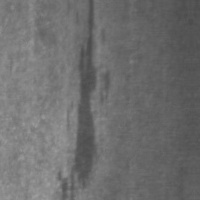inclusion: (50, 6, 100, 199)
